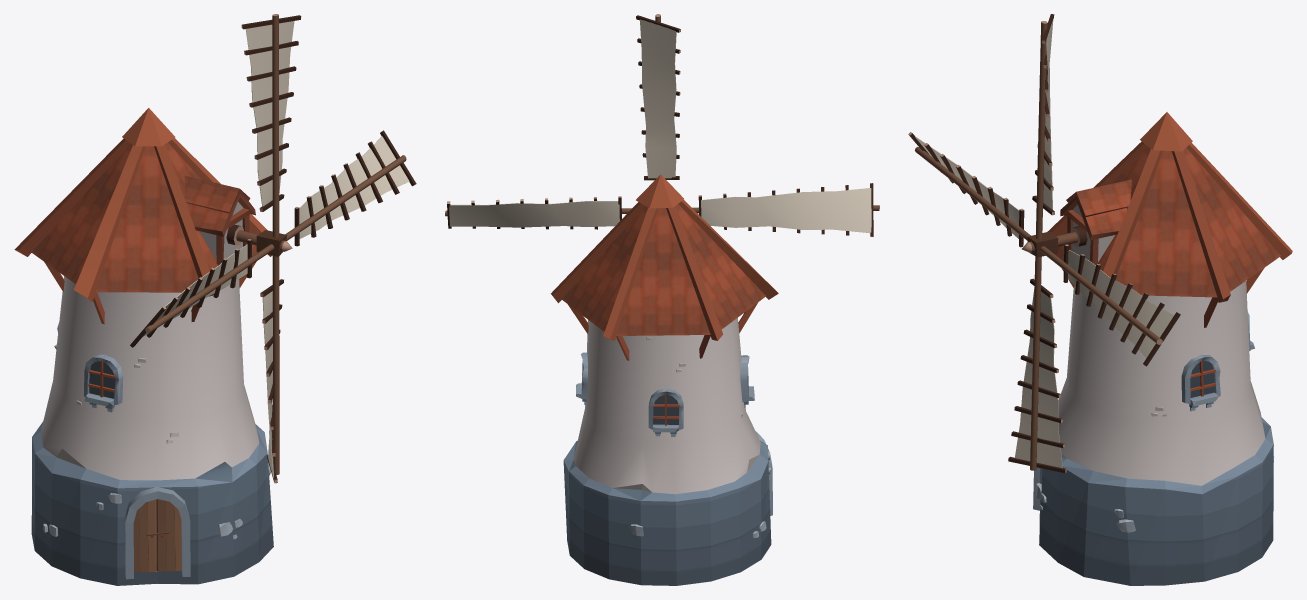
File: Mill-wind-seperated.fbx
3 renders of one model, left to right at view 1: azimuth 30°, elevation 25°; view 2: azimuth 150°, elevation 25°; view 3: azimuth 270°, elevation 25°, orthographic. The views are drawn at different scales.
Visible parts, largest first — view 1: Mill-wind, Mill-wind-Blades; view 2: Mill-wind, Mill-wind-Blades; view 3: Mill-wind, Mill-wind-Blades.
Part boxes in pixels (x1,y1,x2,y2): Mill-wind: (14, 108, 292, 585); Mill-wind-Blades: (130, 14, 416, 483); Mill-wind: (551, 174, 778, 585); Mill-wind-Blades: (445, 14, 879, 236); Mill-wind: (1022, 112, 1292, 585); Mill-wind-Blades: (908, 14, 1180, 473).
Size of the model in its own units: 1128 by 1533 by 975.
